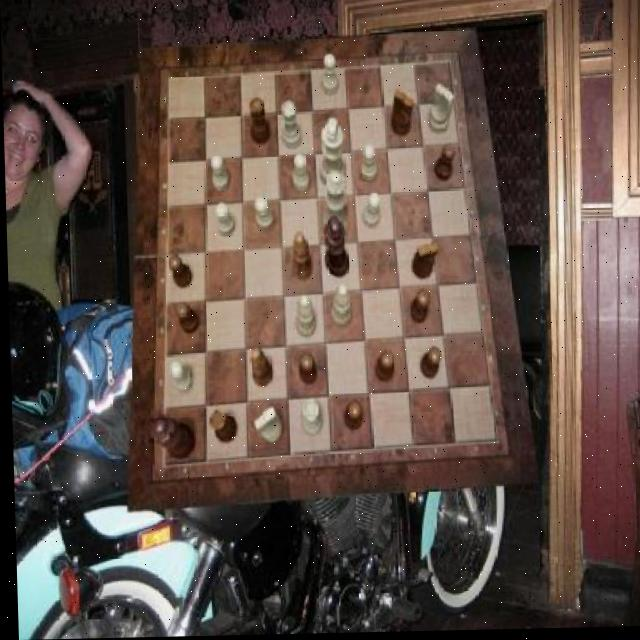bishop: (292, 233, 313, 281), (248, 348, 271, 388)
black-bishop: (324, 217, 348, 279)
black-king: (390, 91, 414, 138), (410, 243, 438, 281)
black-knight: (166, 255, 191, 290), (175, 303, 198, 336), (419, 349, 441, 382), (435, 148, 455, 184), (408, 291, 429, 325), (296, 354, 314, 387), (373, 353, 391, 385), (342, 403, 360, 433)
black-pawn: (148, 414, 194, 460)
black-queen: (248, 98, 269, 145), (207, 410, 235, 445)
black-rook: (328, 285, 349, 329), (293, 296, 314, 339)
white-bishop: (318, 119, 344, 190)
white-king: (427, 86, 454, 137), (253, 408, 281, 443)
white-knight: (168, 362, 192, 394), (214, 204, 235, 238), (320, 56, 337, 98), (210, 155, 228, 193), (291, 156, 309, 194), (360, 193, 378, 230), (359, 146, 376, 184), (254, 198, 272, 233)
white-pawn: (321, 173, 349, 241)
white-queen: (281, 103, 301, 150), (298, 401, 320, 437)
